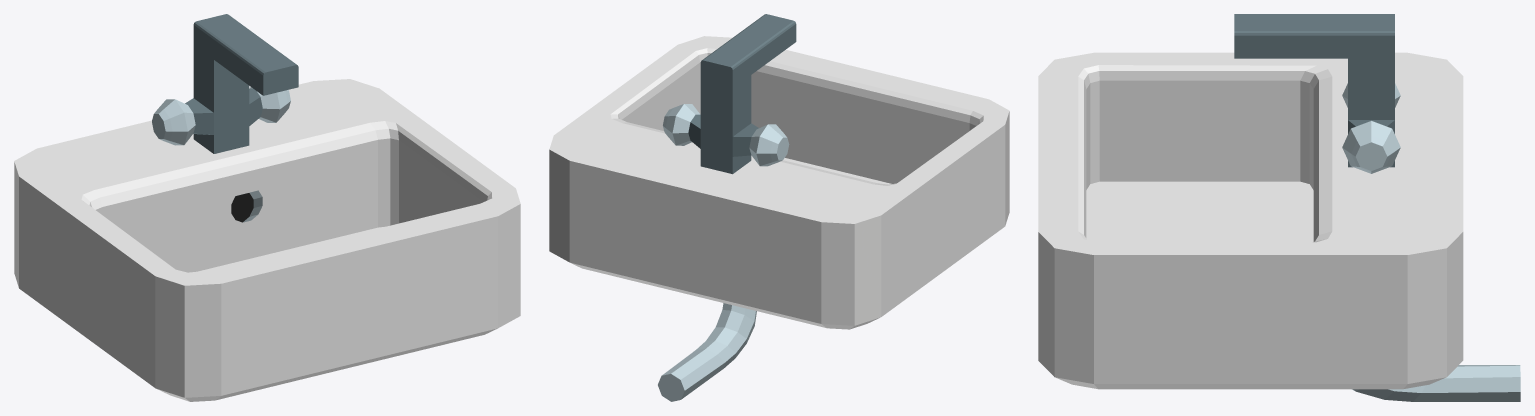
Rendered from Sink.fbx.
3 views of the same model, side by side, from view 1: azimuth 30°, elevation 25°; view 2: azimuth 150°, elevation 25°; view 3: azimuth 270°, elevation 25° (orthographic). The views are drawn at different scales.
Parts seen in each view (by area): view 1: Sink; view 2: Sink; view 3: Sink.
Boxes of the visible parts, x1,y1,x2,y2 form: Sink: (14, 14, 520, 401); Sink: (549, 14, 1009, 401); Sink: (1038, 14, 1520, 401).
Size of the model in its own units: 65.9 by 57.86 by 66.38.
